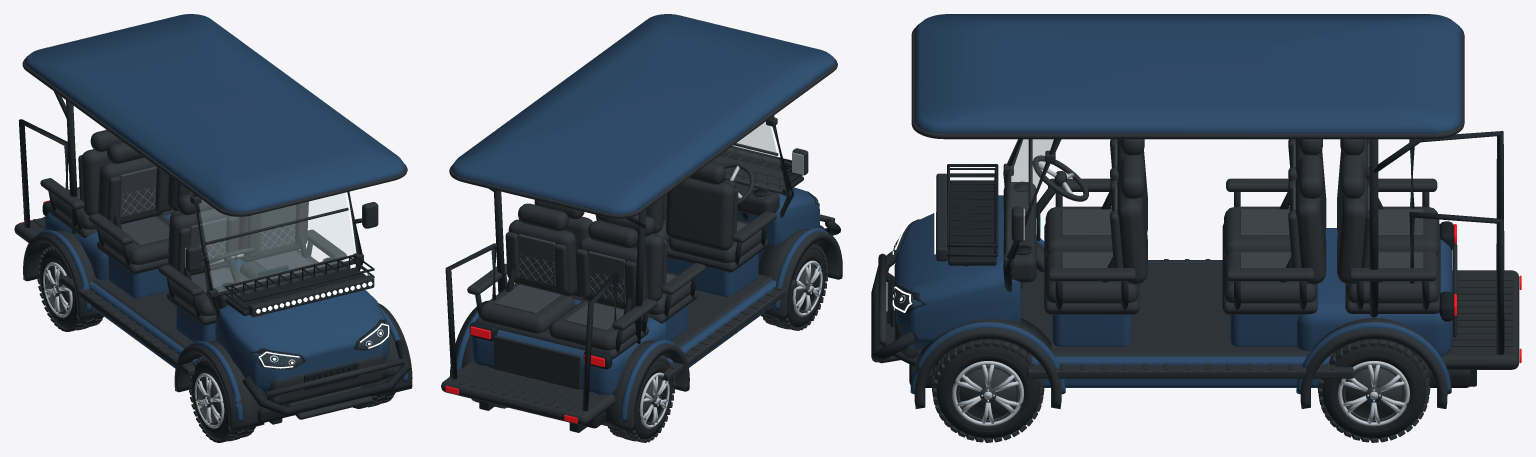
The model's file is golf-cart.glb.
The picture shows the model from 3 angles, left to right: view 1: azimuth 30°, elevation 25°; view 2: azimuth 150°, elevation 25°; view 3: azimuth 270°, elevation 25°; orthographic projection. The views are drawn at different scales.
Parts seen in each view (by area): view 1: golf-cart-Atlantic-navy-metallic, golf-cart-satin-graphite, golf-cart-black-upholstery, golf-cart-powder-coated-steel, golf-cart-clear-windshield, golf-cart-quilted-insert, golf-cart-tread-rubber, golf-cart-tire-rubber, golf-cart-machined-aluminum, golf-cart-wheel-graphite, golf-cart-headlamp-recess, golf-cart-smoked-headlamp-lens (+3 smaller); view 2: golf-cart-Atlantic-navy-metallic, golf-cart-satin-graphite, golf-cart-black-upholstery, golf-cart-powder-coated-steel, golf-cart-quilted-insert, golf-cart-tread-rubber, golf-cart-clear-windshield, golf-cart-tire-rubber, golf-cart-machined-aluminum, golf-cart-wheel-graphite, golf-cart-headlamp-recess, golf-cart-red-tail-lens; view 3: golf-cart-Atlantic-navy-metallic, golf-cart-satin-graphite, golf-cart-black-upholstery, golf-cart-powder-coated-steel, golf-cart-tire-rubber, golf-cart-tread-rubber, golf-cart-quilted-insert, golf-cart-machined-aluminum, golf-cart-wheel-graphite, golf-cart-clear-windshield, golf-cart-headlamp-recess, golf-cart-underbody.
Part boxes in pixels (bbox=[...]): golf-cart-Atlantic-navy-metallic: bbox=[25, 14, 407, 422]; golf-cart-satin-graphite: bbox=[14, 59, 412, 432]; golf-cart-black-upholstery: bbox=[40, 130, 346, 315]; golf-cart-powder-coated-steel: bbox=[19, 91, 410, 424]; golf-cart-clear-windshield: bbox=[199, 193, 354, 291]; golf-cart-quilted-insert: bbox=[77, 166, 312, 294]; golf-cart-tread-rubber: bbox=[33, 216, 395, 442]; golf-cart-tire-rubber: bbox=[39, 250, 386, 439]; golf-cart-machined-aluminum: bbox=[43, 253, 383, 428]; golf-cart-wheel-graphite: bbox=[45, 265, 222, 425]; golf-cart-headlamp-recess: bbox=[42, 201, 386, 390]; golf-cart-smoked-headlamp-lens: bbox=[258, 323, 387, 368]; golf-cart-Atlantic-navy-metallic: bbox=[451, 14, 835, 422]; golf-cart-satin-graphite: bbox=[441, 59, 842, 432]; golf-cart-black-upholstery: bbox=[467, 162, 776, 350]; golf-cart-powder-coated-steel: bbox=[445, 115, 840, 432]; golf-cart-quilted-insert: bbox=[495, 218, 746, 330]; golf-cart-tread-rubber: bbox=[459, 244, 828, 442]; golf-cart-clear-windshield: bbox=[710, 122, 784, 190]; golf-cart-tire-rubber: bbox=[616, 248, 825, 439]; golf-cart-machined-aluminum: bbox=[639, 166, 822, 428]; golf-cart-wheel-graphite: bbox=[642, 263, 820, 424]; golf-cart-headlamp-recess: bbox=[469, 189, 819, 369]; golf-cart-red-tail-lens: bbox=[445, 326, 604, 423]; golf-cart-Atlantic-navy-metallic: bbox=[896, 14, 1461, 394]; golf-cart-satin-graphite: bbox=[878, 28, 1519, 408]; golf-cart-black-upholstery: bbox=[1032, 139, 1439, 303]; golf-cart-powder-coated-steel: bbox=[871, 131, 1504, 386]; golf-cart-tire-rubber: bbox=[936, 282, 1427, 438]; golf-cart-tread-rubber: bbox=[931, 259, 1513, 442]; golf-cart-quilted-insert: bbox=[1061, 143, 1423, 267]; golf-cart-machined-aluminum: bbox=[893, 162, 1409, 426]; golf-cart-wheel-graphite: bbox=[956, 364, 1405, 422]; golf-cart-clear-windshield: bbox=[1009, 139, 1053, 250]; golf-cart-headlamp-recess: bbox=[890, 182, 1454, 326]; golf-cart-underbody: bbox=[909, 354, 1471, 387].
Size of the model in its own units: 1.62 by 2.1 by 3.76.
